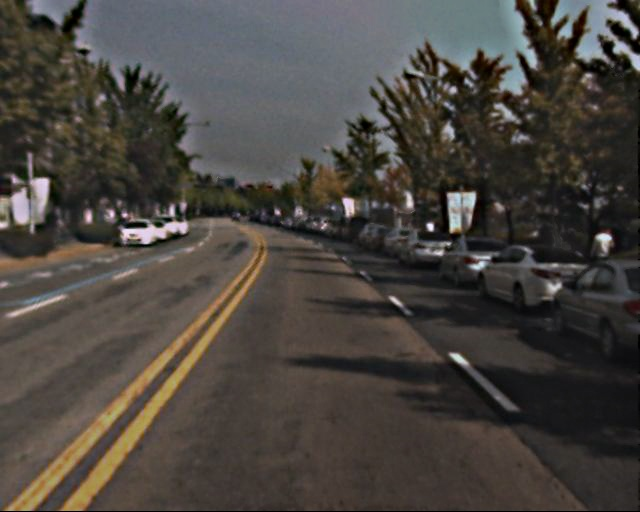person: (584, 222, 619, 292), (550, 223, 579, 284)
